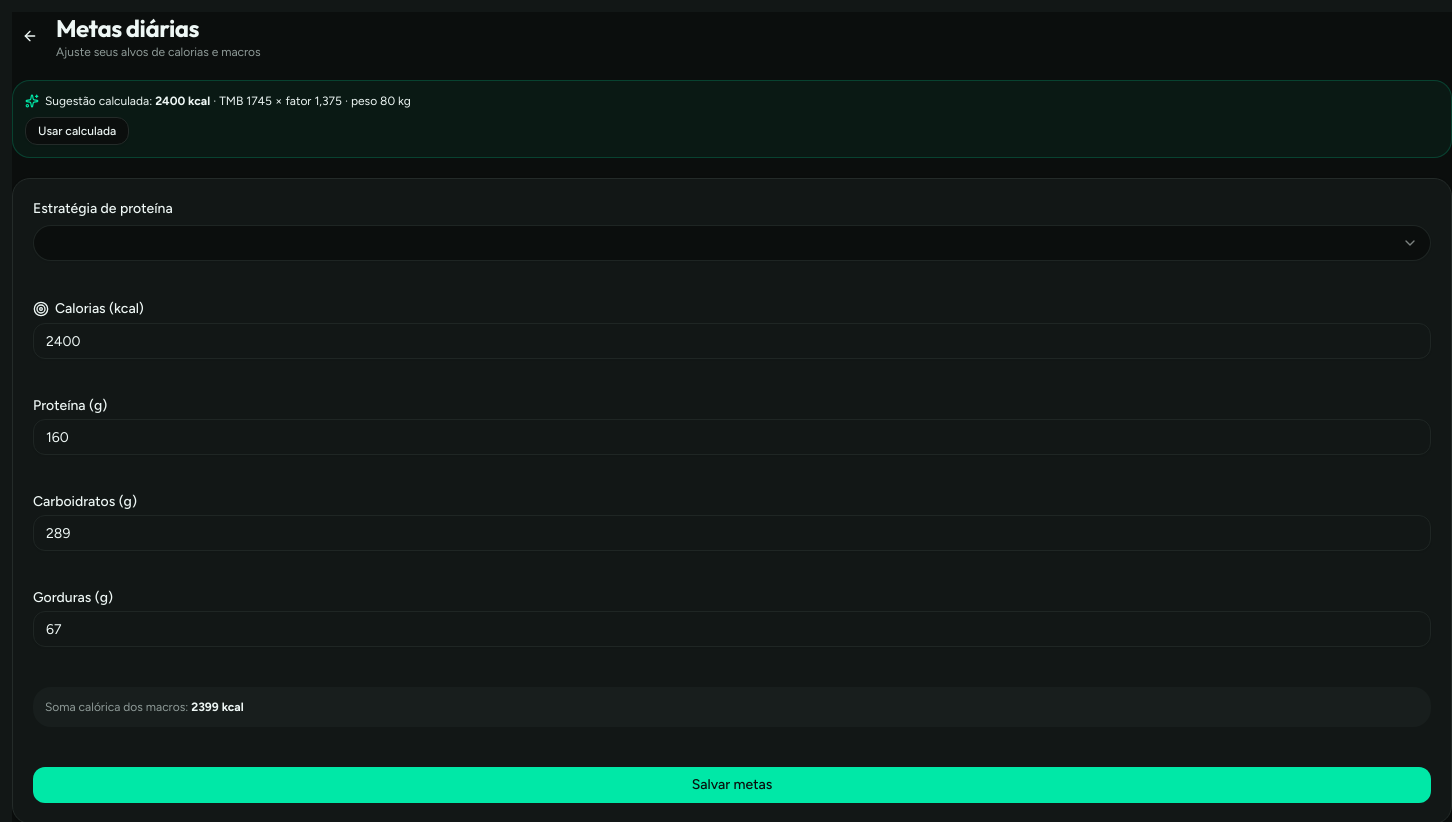
Scenario: GoalsPage — integração (supabase mock + calculateTdee mock) › muda a estratégia para manual ao editar um macro diretamente
Check: the number field showing "2400" below "Calorias (kcal)" is shown, box [33,323,1431,359]
// Edita proteína diretamente
Replace the text in the number field showing "160" below "Proteína (g)" with "150" at (732, 437), box [33,419,1431,455]
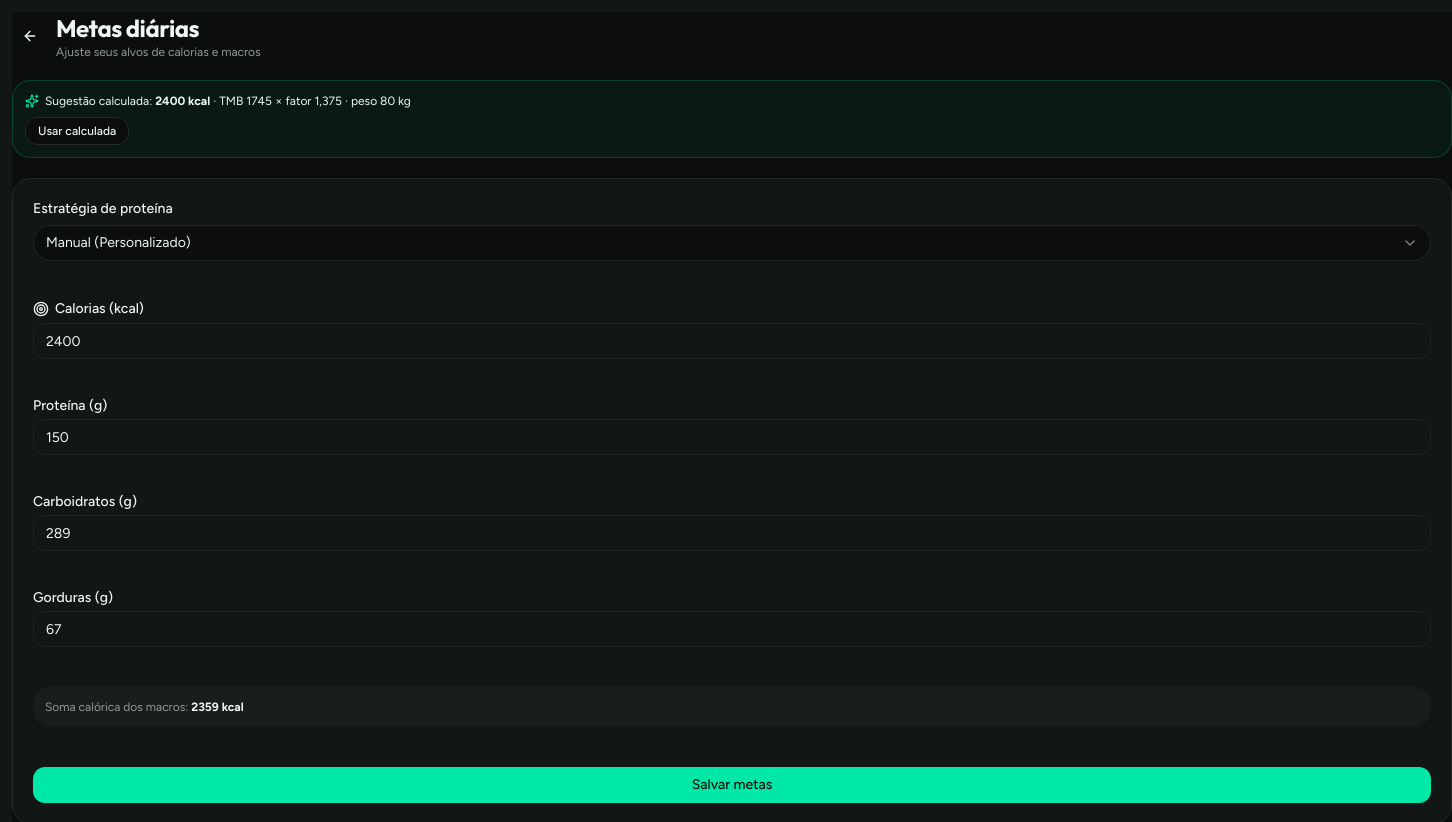
Check: the text "Manual (Personalizado)" is shown, box [46,233,191,253]
